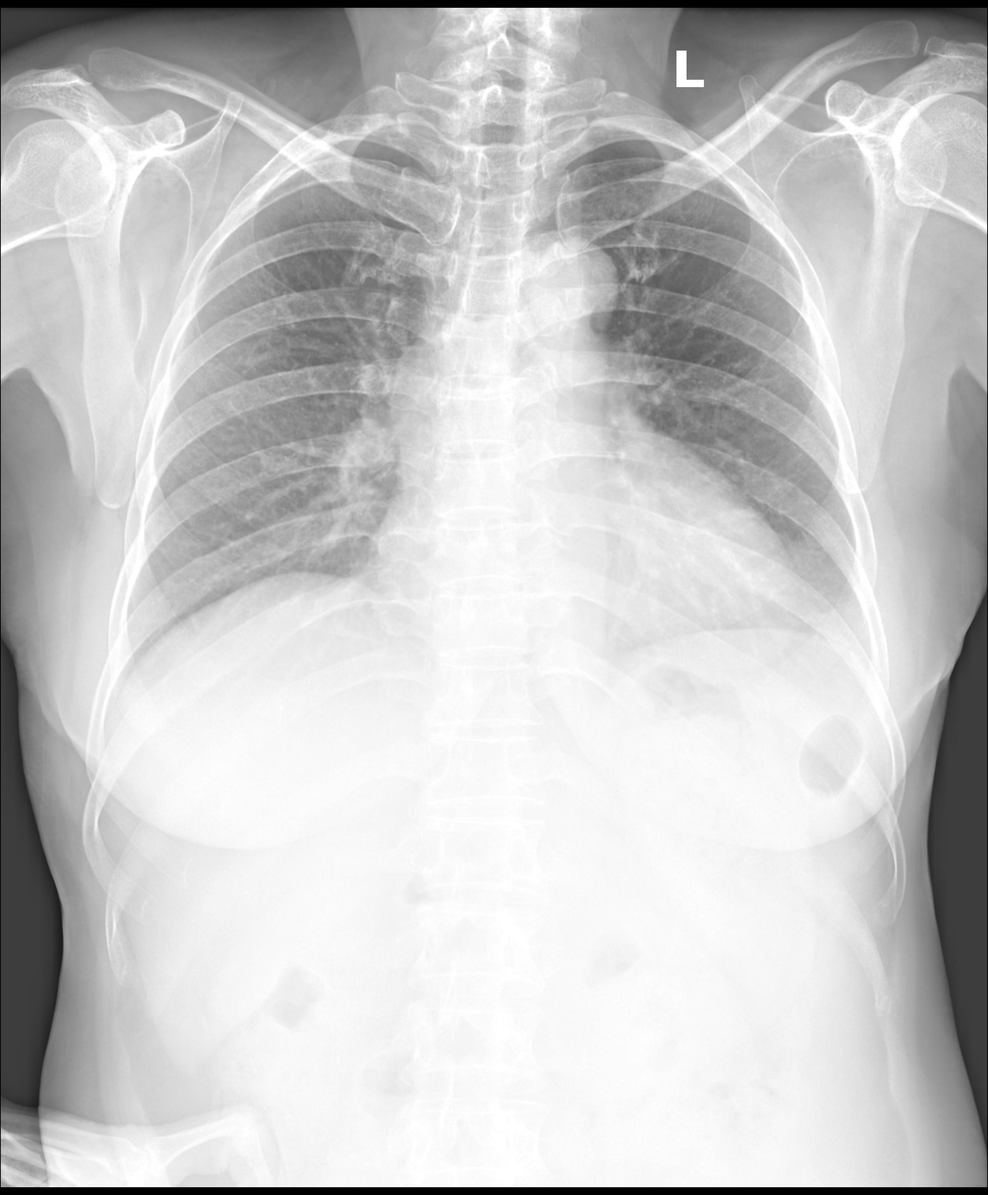Aortic enlargement: (511, 232, 618, 322)
Cardiomegaly: (350, 502, 797, 675)
